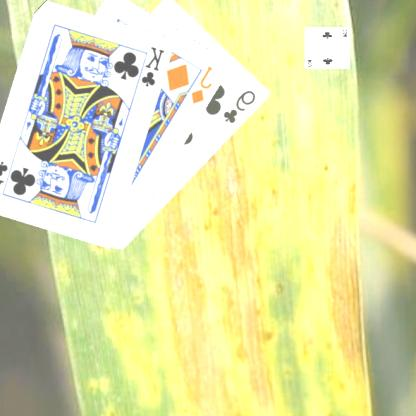9C: (222, 87, 260, 125)
JD: (190, 63, 216, 106)
KC: (135, 44, 168, 89), (0, 156, 19, 202)
